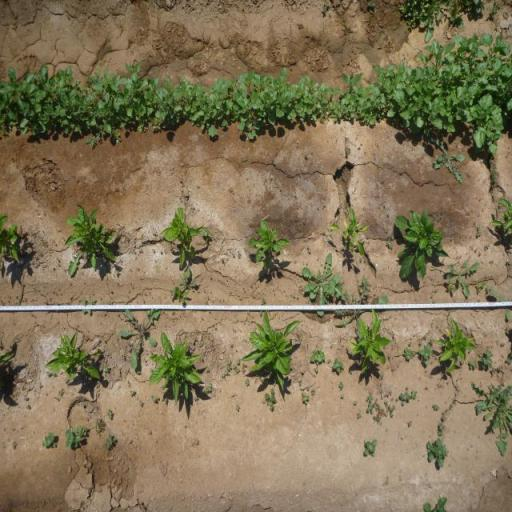plant: (243, 310, 303, 390), (62, 200, 120, 271), (149, 329, 204, 403), (393, 208, 446, 283), (44, 329, 104, 384), (246, 218, 292, 272), (161, 206, 202, 266), (351, 310, 388, 374), (435, 318, 471, 370), (330, 207, 367, 256), (0, 211, 20, 266)
weed: (441, 30, 512, 150), (222, 66, 302, 140), (74, 60, 142, 147), (0, 61, 72, 141), (300, 69, 385, 129), (378, 61, 442, 138), (142, 74, 220, 137), (466, 381, 512, 460), (114, 307, 162, 372), (301, 253, 348, 305), (336, 276, 384, 322), (398, 0, 438, 42), (432, 144, 465, 186), (447, 256, 481, 296), (424, 436, 450, 470), (487, 289, 512, 324), (438, 0, 465, 30), (372, 396, 395, 425), (62, 424, 88, 449), (173, 264, 197, 291), (478, 347, 494, 372), (417, 343, 433, 367), (264, 386, 278, 413), (40, 429, 58, 449), (82, 296, 98, 316), (362, 438, 378, 458), (310, 348, 327, 366), (464, 0, 485, 14), (487, 0, 501, 21), (330, 356, 346, 374), (104, 432, 118, 451), (220, 359, 233, 379), (175, 286, 189, 304), (95, 417, 107, 437), (398, 391, 412, 407), (402, 345, 416, 361), (446, 273, 456, 294), (386, 232, 395, 250), (468, 356, 478, 372), (300, 392, 310, 407), (321, 0, 331, 15), (202, 226, 212, 240), (366, 1, 376, 15), (102, 362, 112, 374), (476, 281, 486, 293), (106, 407, 114, 421), (241, 362, 248, 376), (365, 402, 373, 414), (151, 394, 160, 404), (438, 422, 444, 437), (45, 370, 56, 378), (410, 389, 418, 400), (232, 364, 240, 374), (364, 394, 374, 402), (476, 225, 482, 238), (129, 389, 136, 398), (505, 356, 512, 365), (163, 396, 169, 406), (206, 384, 212, 394), (244, 377, 250, 387), (338, 380, 344, 390), (356, 410, 362, 420), (432, 404, 440, 411), (407, 420, 413, 429), (314, 365, 319, 375), (261, 296, 266, 306), (57, 389, 63, 396), (311, 387, 315, 396), (258, 310, 264, 316), (235, 404, 240, 411), (140, 400, 144, 406)
